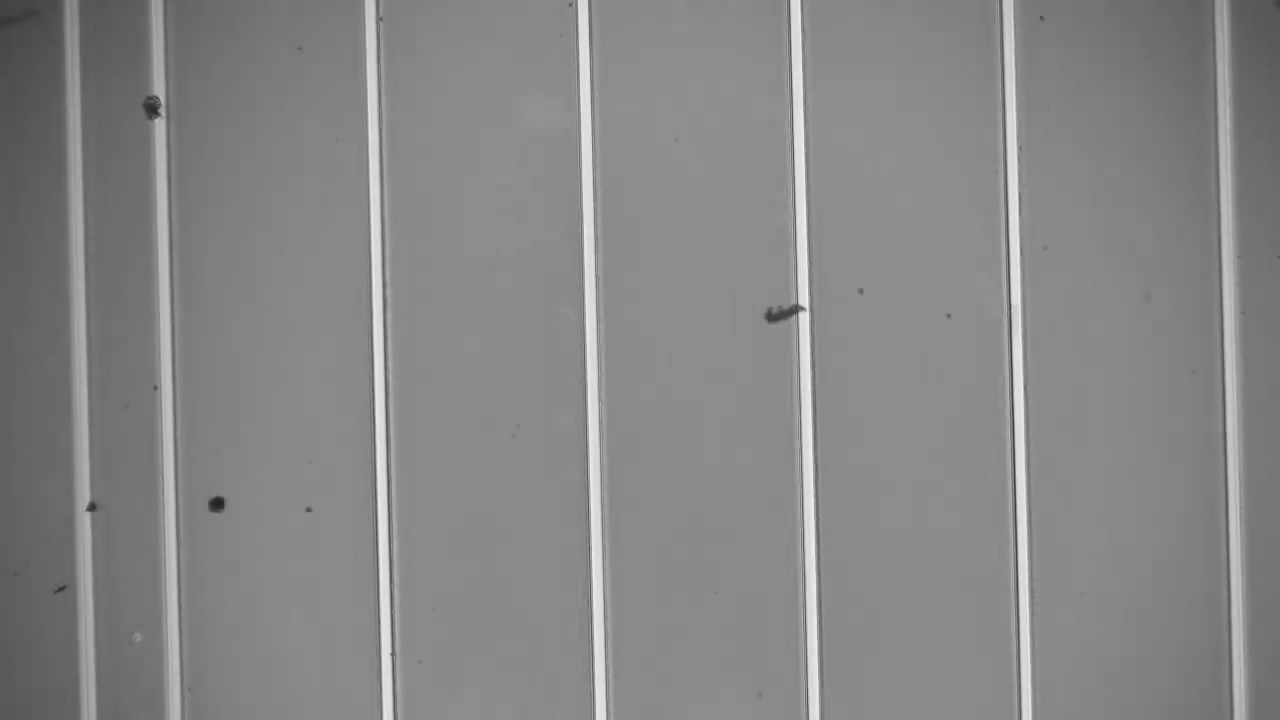stains_enbedded: (140, 87, 172, 127)
